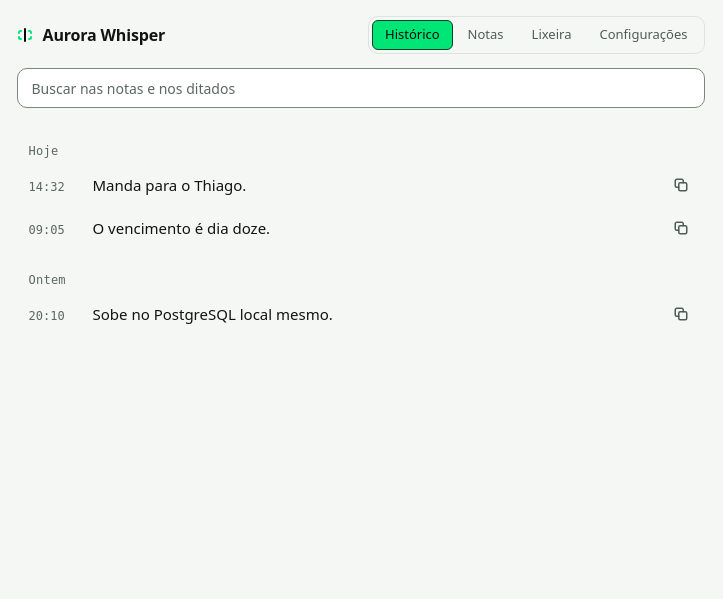
Test: painel › rascunho de uma linha sobrevive a abrir outra, e aparece como não salvo
Click the button "14:32 Manda para o Thiago.": [47, 187] box [16,164,704,206]
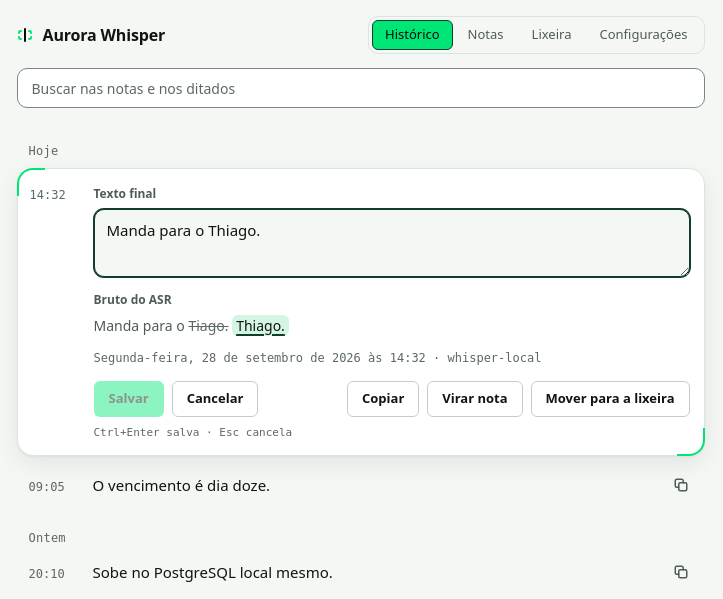
Replace the text in the text box labelled "Texto final" with "Manda para o Thiago já.": [392, 243] box [94,209,690,276]
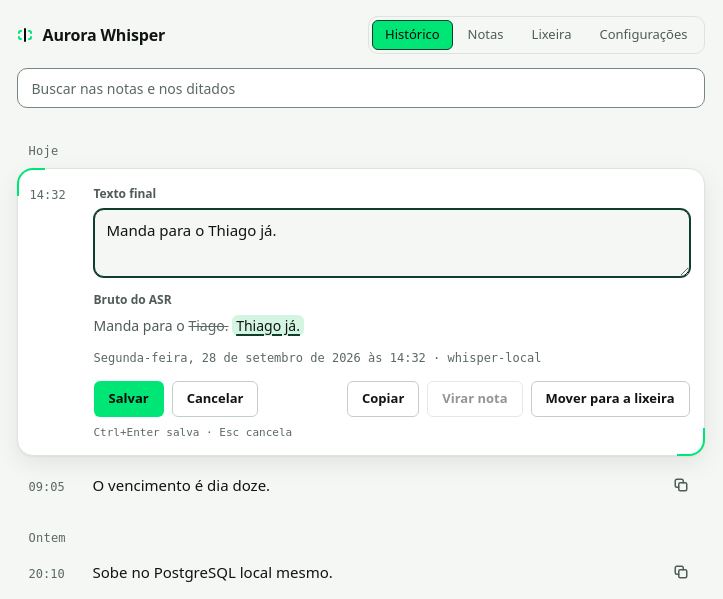
Click the button "09:05 O vencimento é dia doze.": [47, 487] box [16,464,704,507]
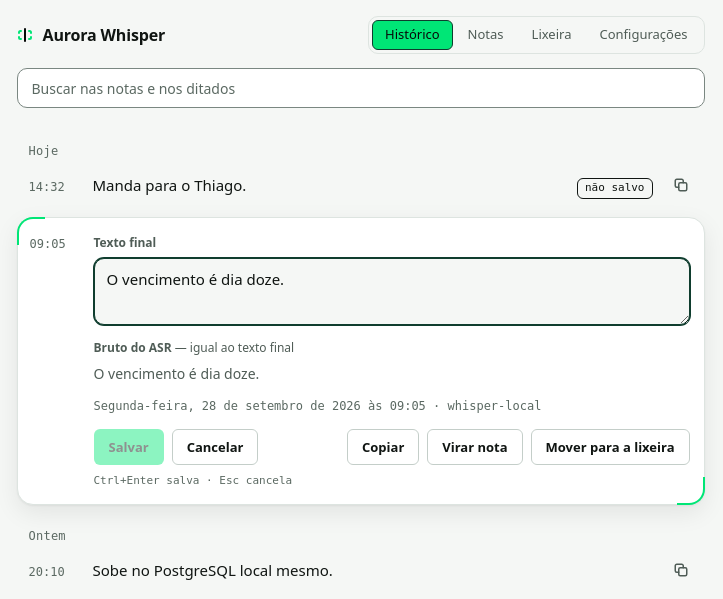
Click the button "14:32 Manda para o Thiago. não salvo": [47, 187] box [16,164,704,208]
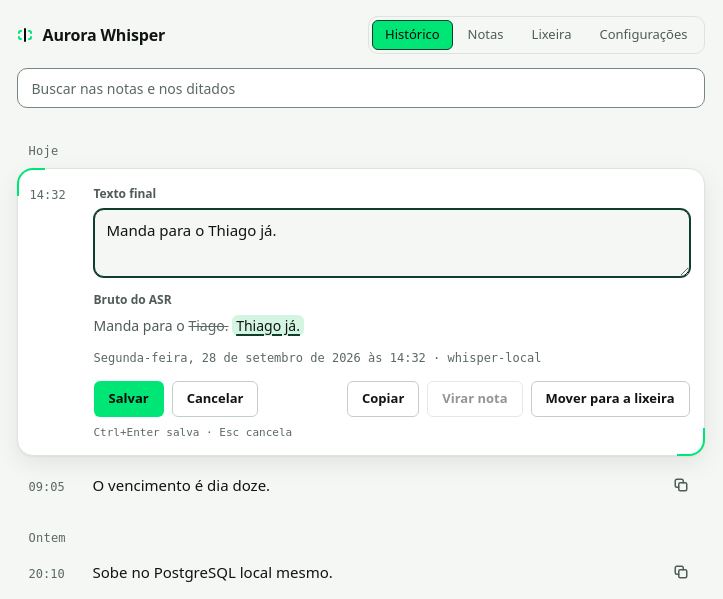
Now the text box labelled "Texto final" holds "Manda para o Thiago já.", box [94,209,690,276]
